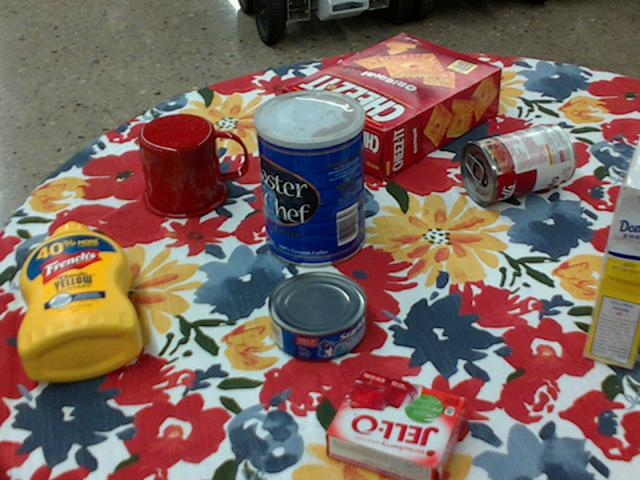cracker_box: (284, 35, 503, 180)
gelatin_box: (328, 372, 471, 479)
master_chef_can: (253, 88, 365, 267)
mug: (138, 113, 247, 219)
mustard_bottle: (19, 221, 143, 381)
sugar_box: (585, 136, 639, 369)
tomato_soup_can: (461, 121, 576, 205)
tuna_fish_can: (268, 272, 367, 362)
